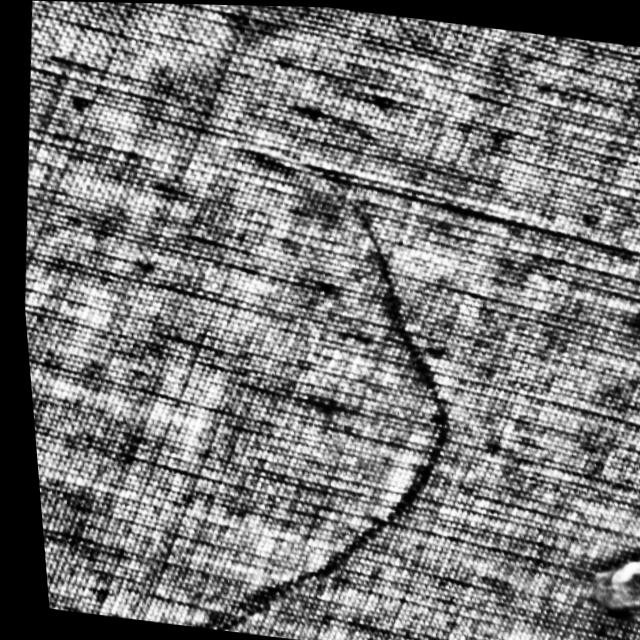Stitch: (125, 138, 490, 640), (569, 536, 640, 620), (623, 272, 640, 347)
